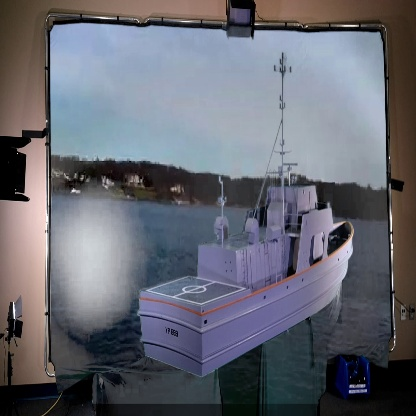YP689: (135, 52, 355, 379)
